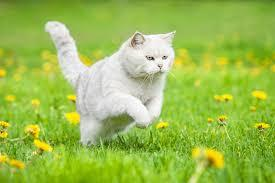Cat: (119, 31, 188, 83)
